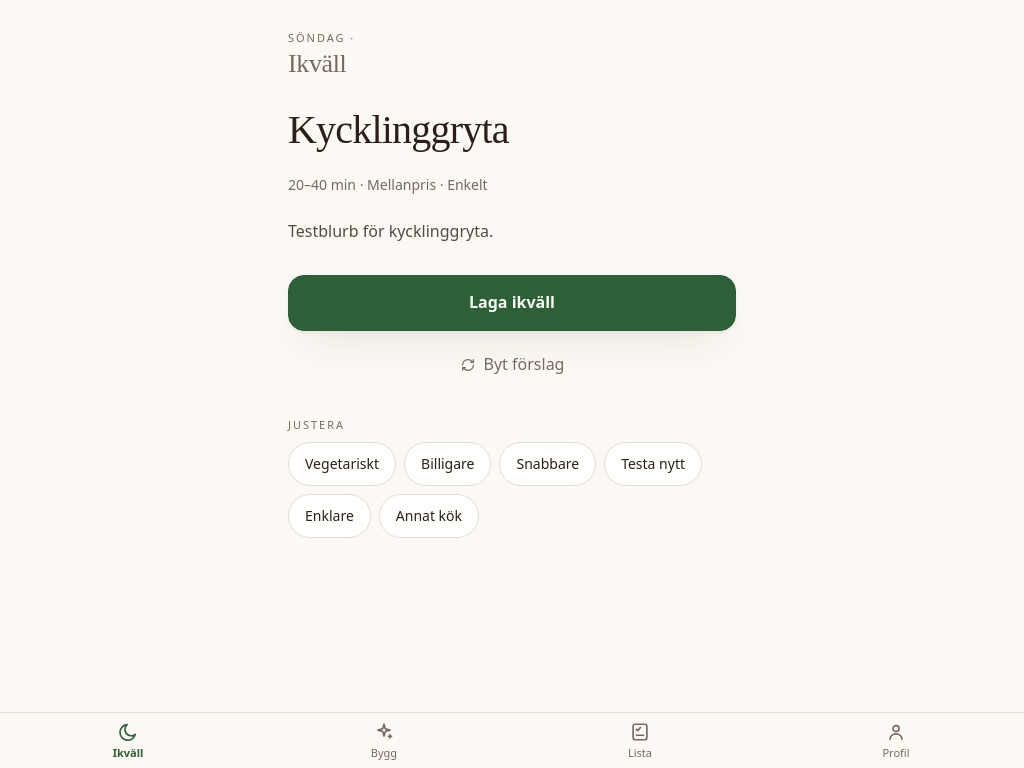
Test case: App — adjustment chips › never repeats a dish across repeated presses, accumulating exclude each time
Expected: the heading "Kycklinggryta" is shown, [288,107,509,152]
Click the button "Byt förslag": (512, 365) [288,343,736,387]
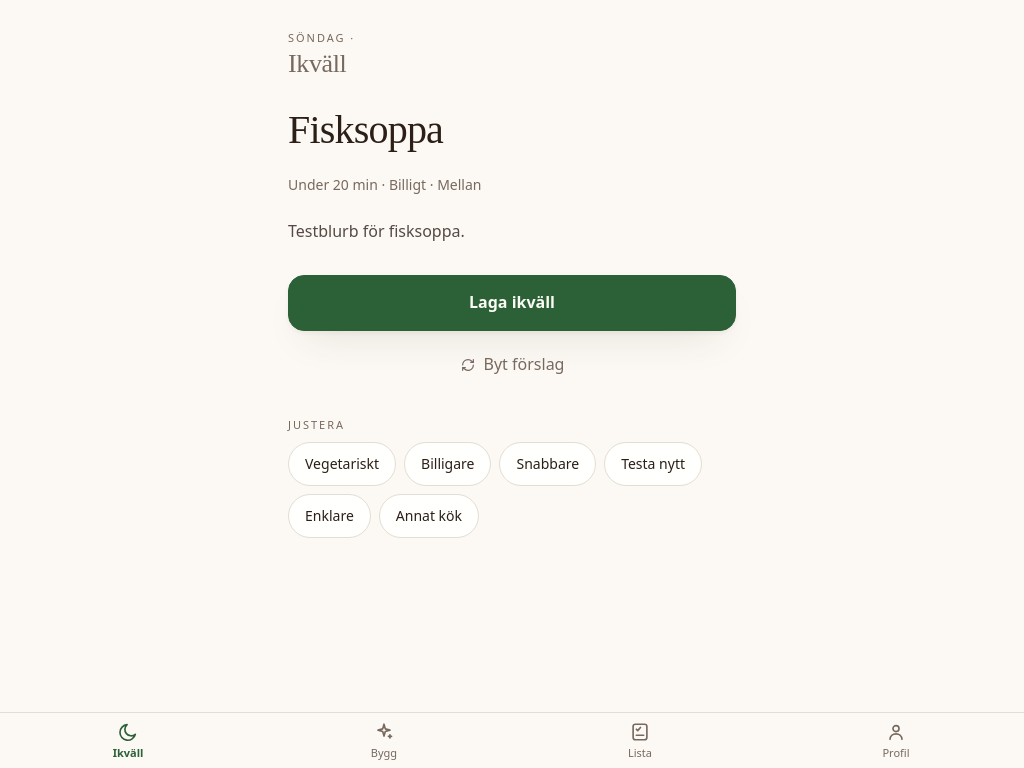
Expected: the heading "Fisksoppa" is shown, [288,107,443,152]
Expected: the heading "Kycklinggryta" is gone
Click the button "Byt förslag": (512, 365) [288,343,736,387]
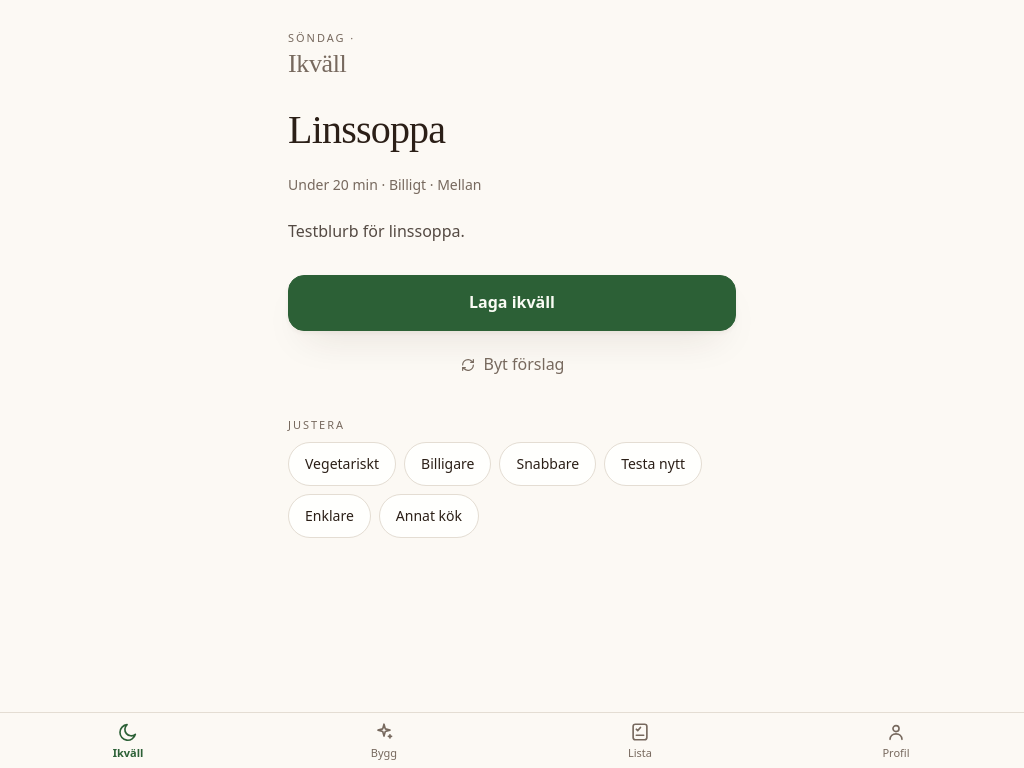
Expected: the heading "Linssoppa" is shown, [288,107,445,152]
Expected: the heading "Fisksoppa" is gone
